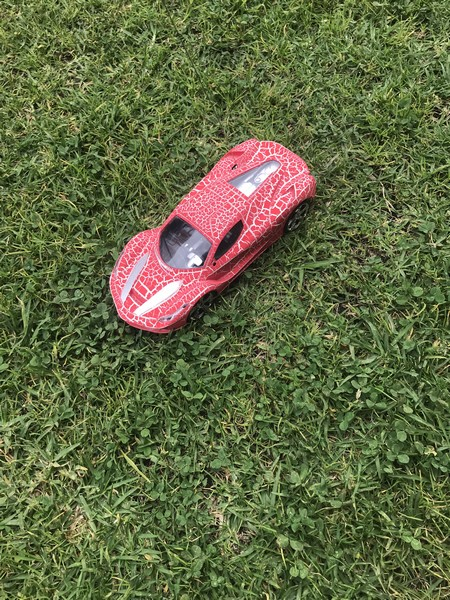RC: (109, 138, 317, 336)
